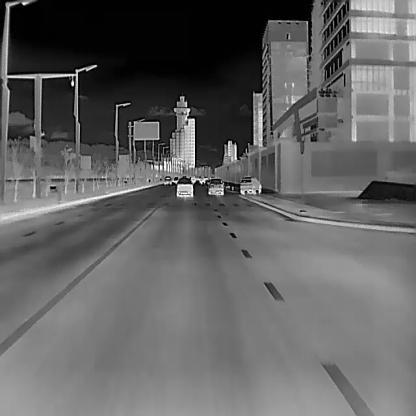car: (239, 175, 261, 194), (175, 176, 193, 198), (208, 177, 224, 194), (163, 175, 170, 184)
